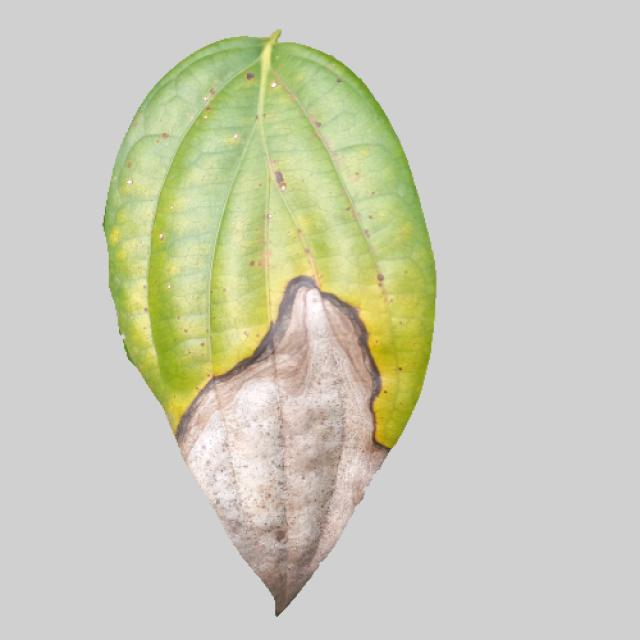leaf-blight: (90, 28, 441, 627)
